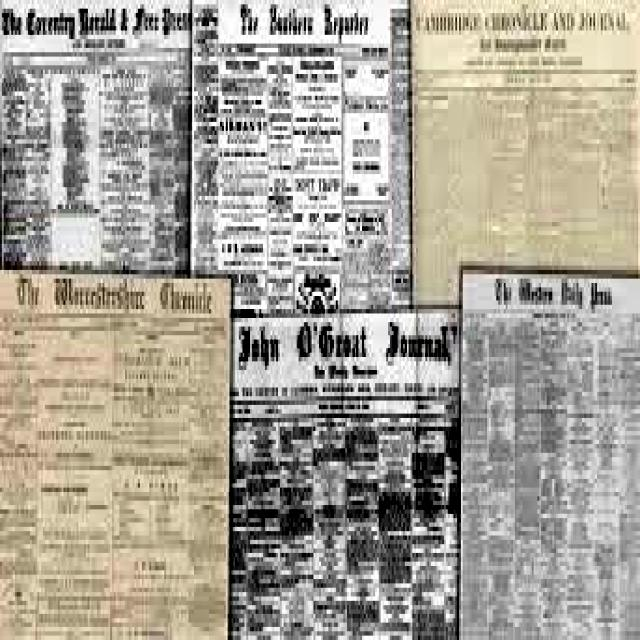Paper: (0, 263, 232, 640), (232, 308, 458, 640), (189, 0, 413, 317), (409, 0, 640, 304), (460, 261, 640, 640), (0, 0, 190, 278)
